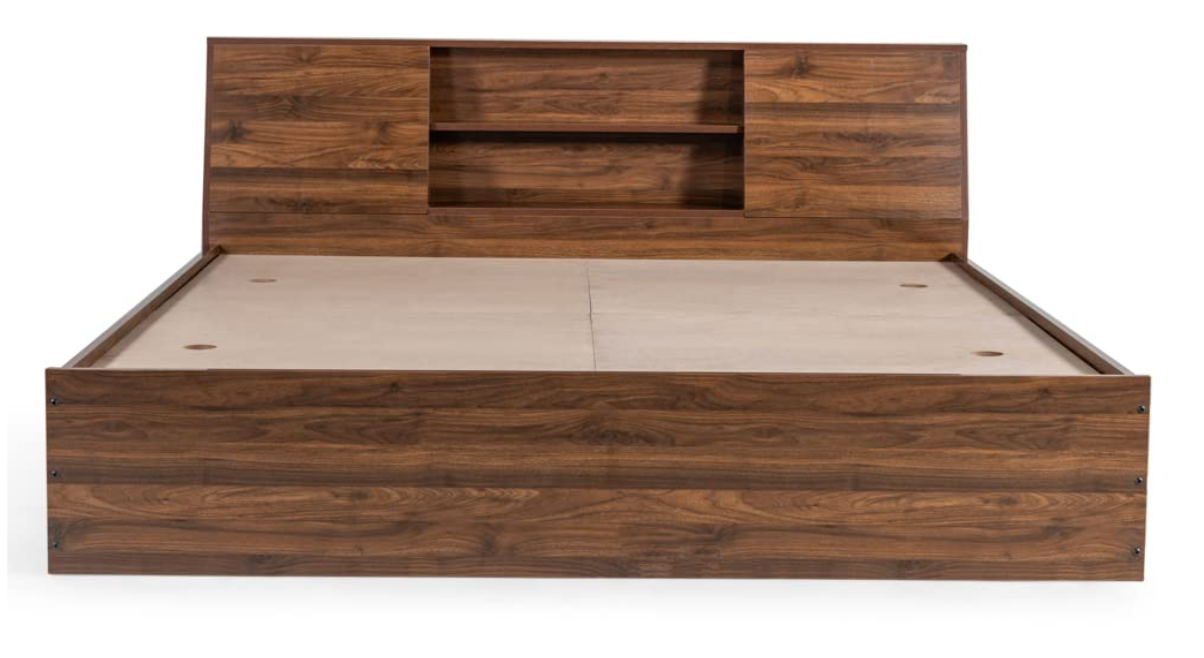cot: (30, 25, 1163, 591)
